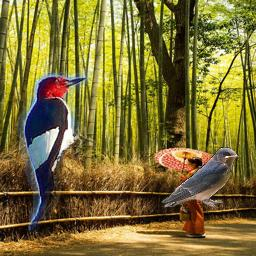Swallow: (161, 147, 239, 210)
Woodpecker: (10, 65, 95, 231)
